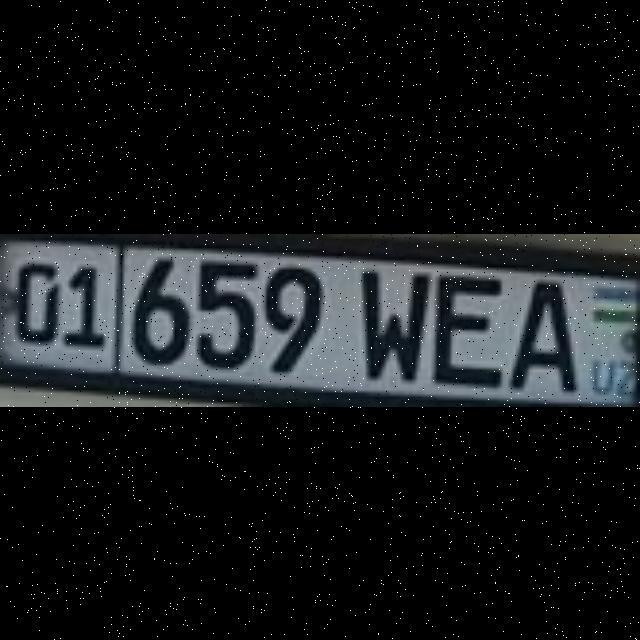0: (12, 256, 58, 342)
1: (58, 260, 100, 344)
5: (193, 256, 255, 364)
6: (127, 252, 185, 360)
9: (258, 260, 320, 368)
A: (505, 275, 571, 387)
E: (428, 271, 498, 383)
W: (354, 264, 424, 380)
